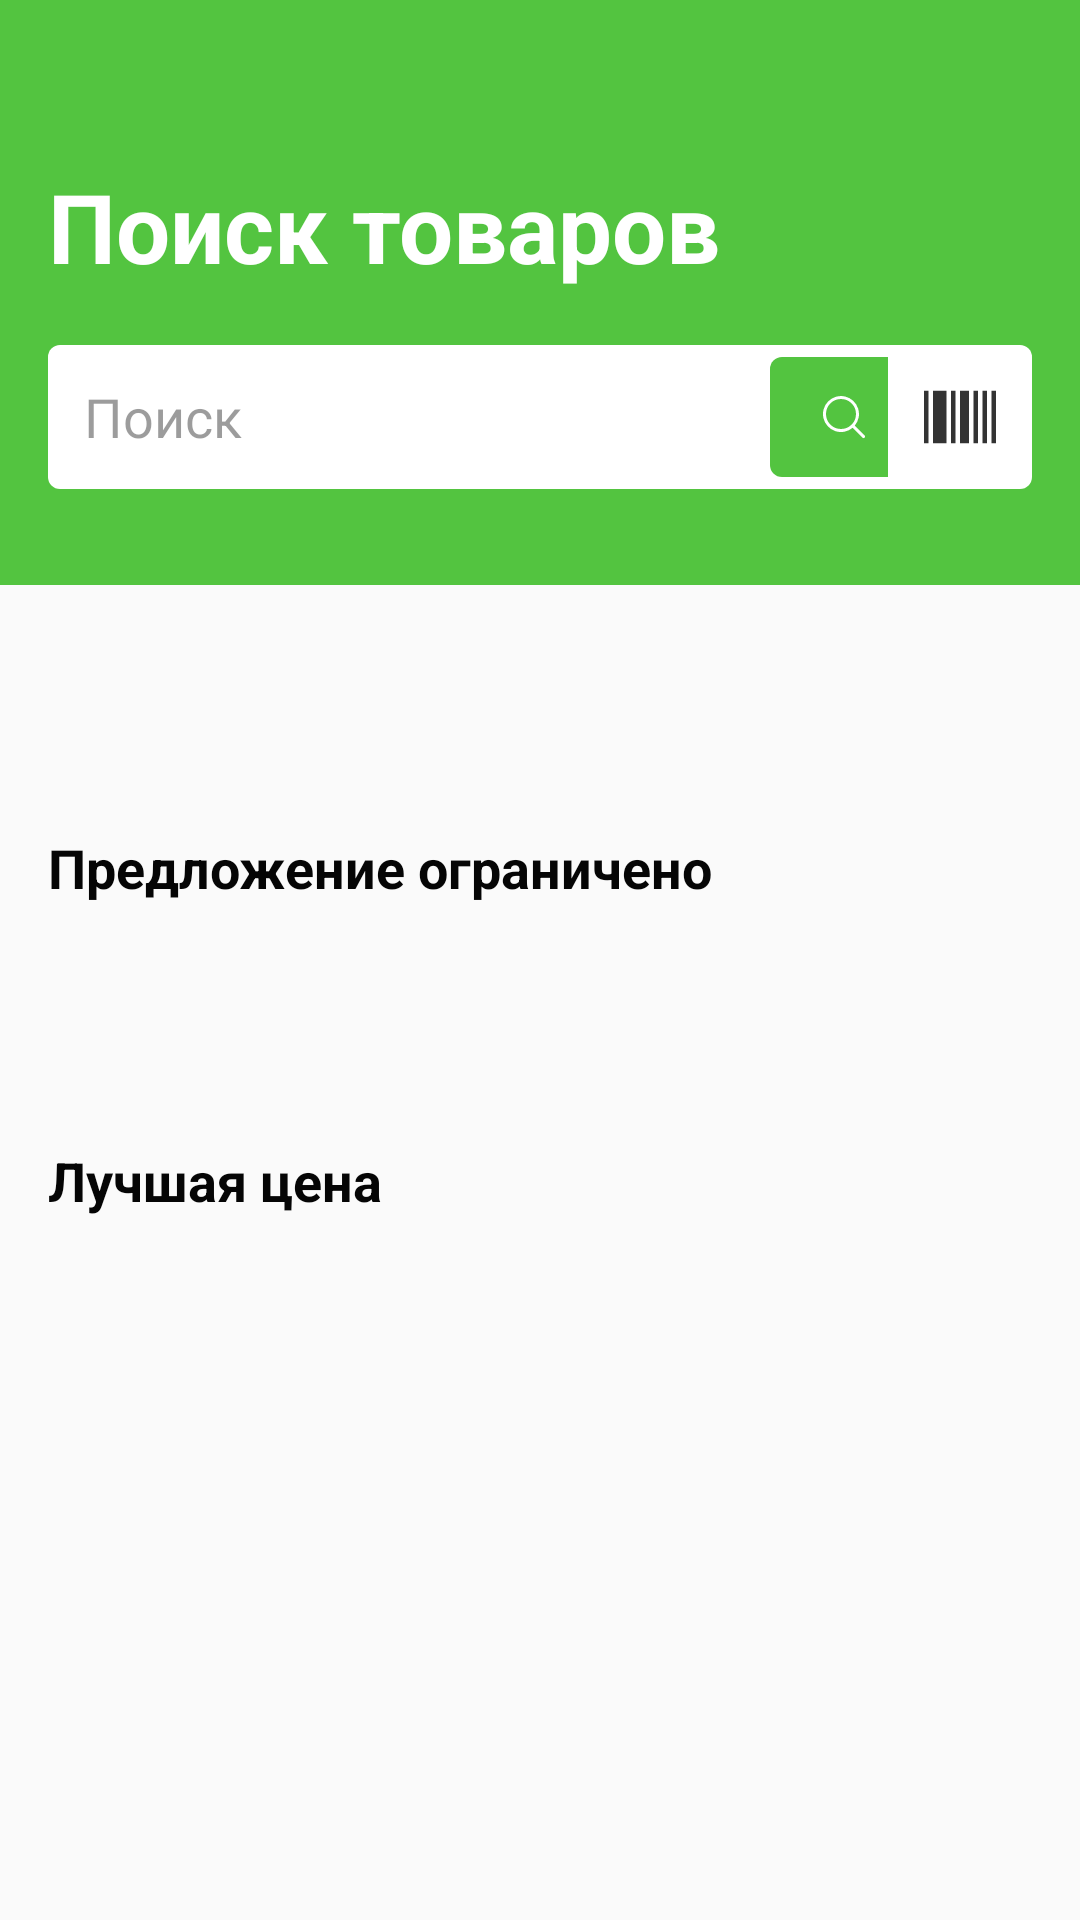

Screen size 1080px×1920px. Icon name, then its box in pixels as (x1, y1, x2, y2):
barcode: (888, 345, 1032, 489)
search: (770, 357, 888, 477)
